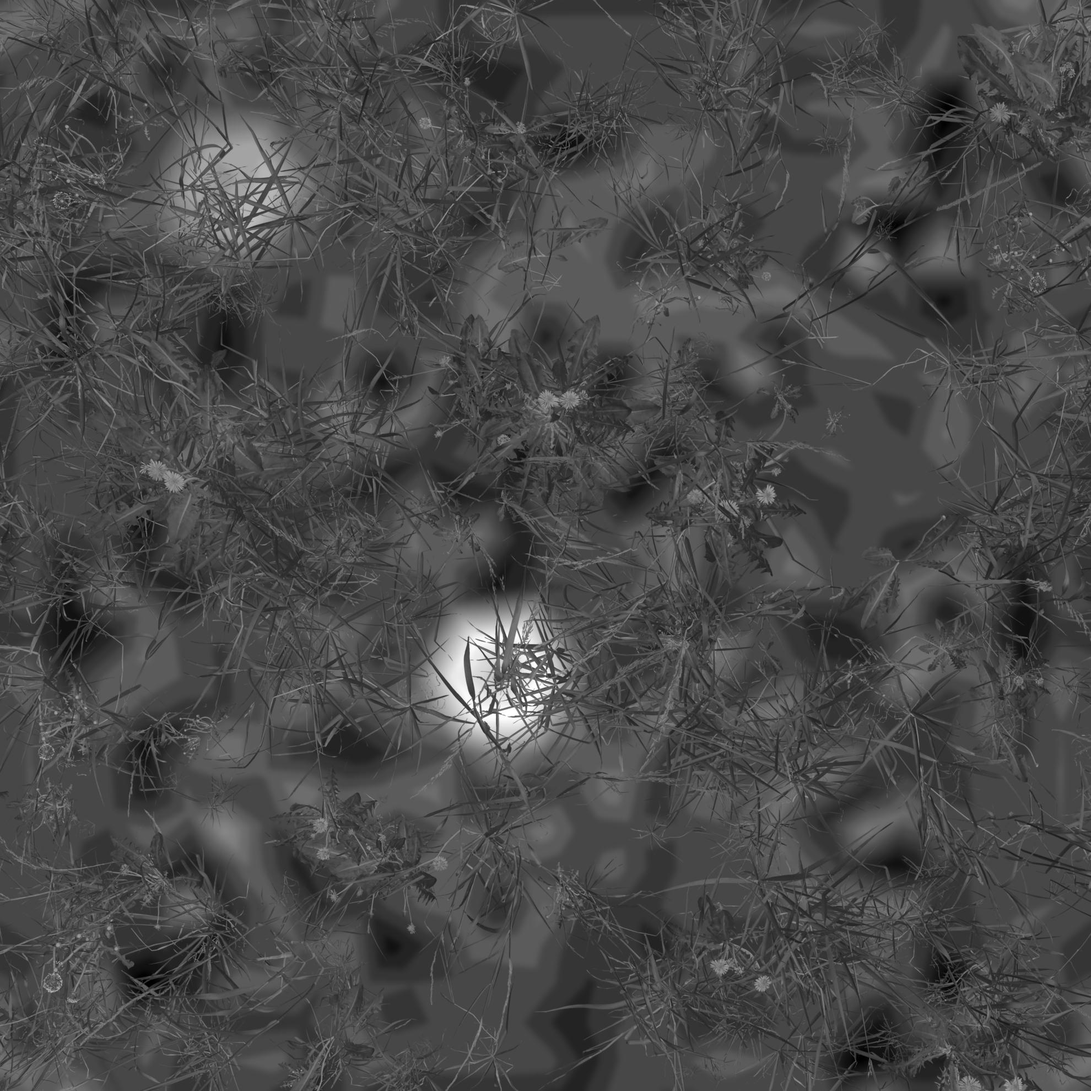landmine: (433, 600, 580, 758), (161, 110, 308, 240)
